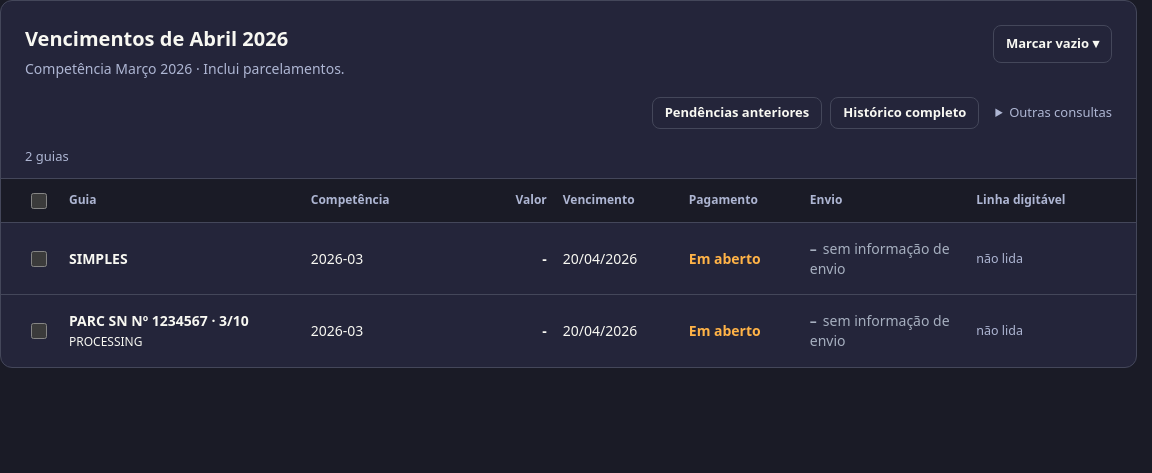
Test: envio das guias selecionadas › envia as disponíveis sem bloquear o lote por {"status":"PROCESSING"}
The width and height of the screenshot is (1152, 473).
Click the button "Histórico completo": (905, 113) top-left (830, 97), bottom-right (979, 129)
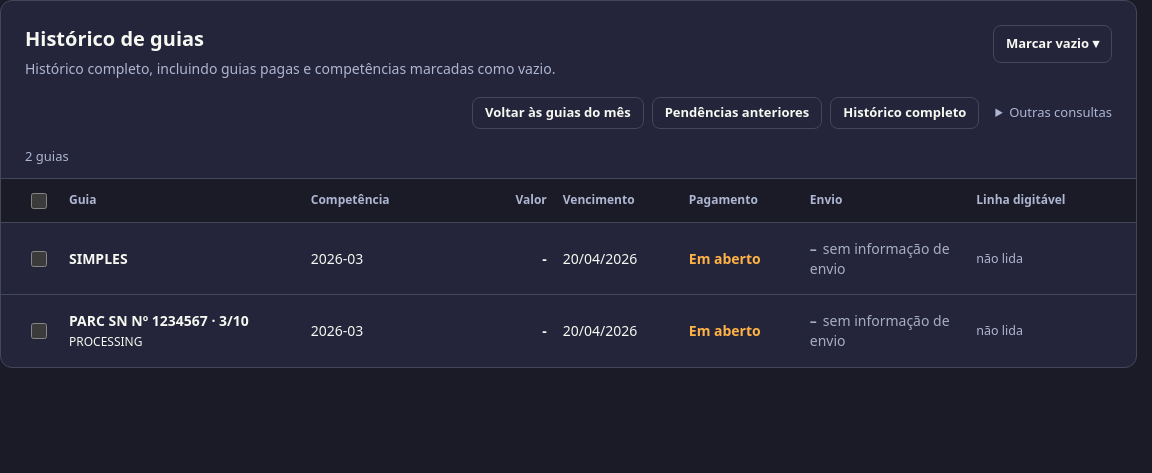
Click the checkbox named "Selecionar todas": (39, 200) top-left (31, 192), bottom-right (47, 208)
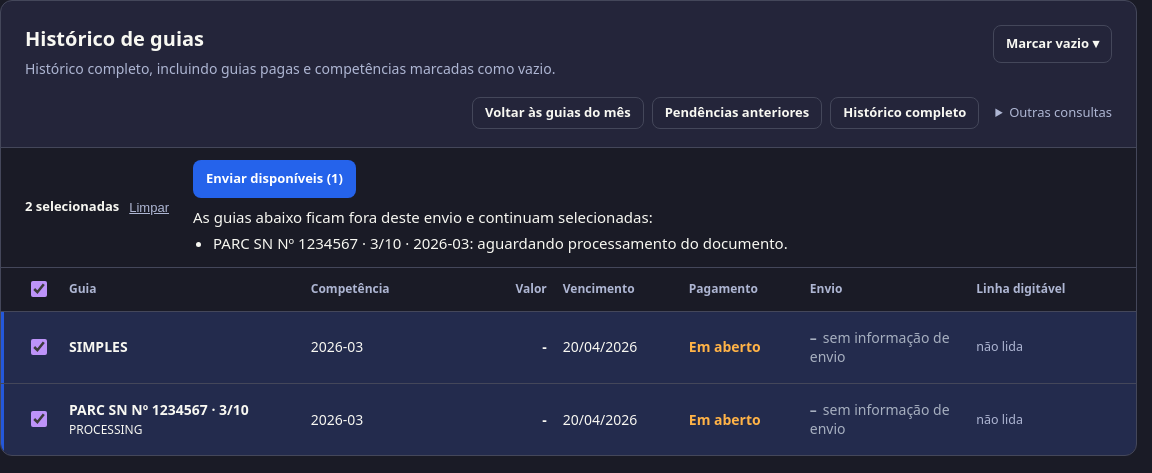
Expected: the list item "aguardando processamento" is shown, top-left (477, 233), bottom-right (784, 253)
Expected: the button "Enviar disponíveis (1)" is enabled
Click the button "Enviar disponíveis (1)": (274, 178) top-left (193, 160), bottom-right (356, 198)
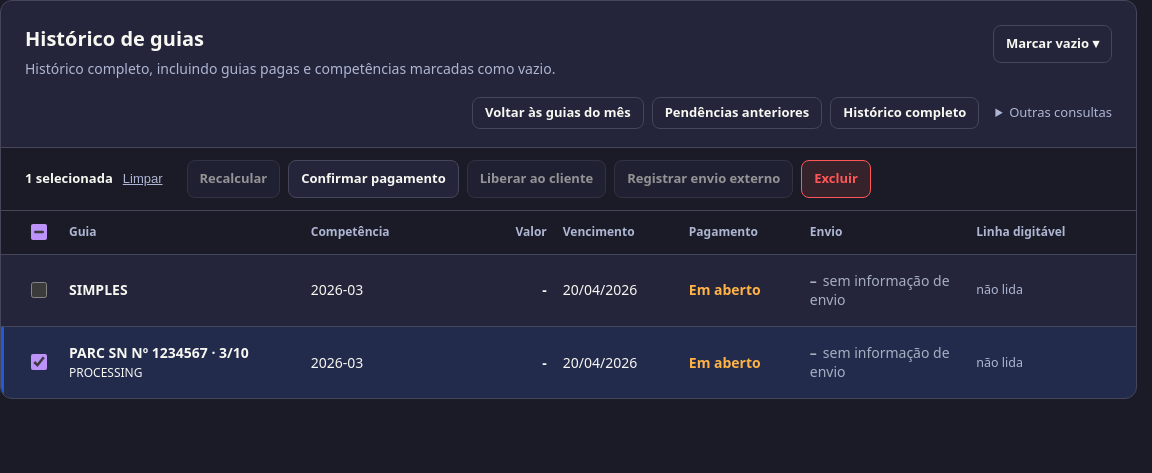
Expected: the checkbox named "Selecionar guia" is checked, top-left (31, 354), bottom-right (47, 370)
Expected: the checkbox named "Selecionar guia" is not checked, top-left (31, 282), bottom-right (47, 298)
